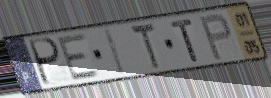E: (56, 32, 103, 84)
I: (103, 27, 128, 77)
P: (197, 12, 233, 63), (28, 36, 63, 88)
T: (128, 21, 163, 71), (168, 17, 201, 64)
